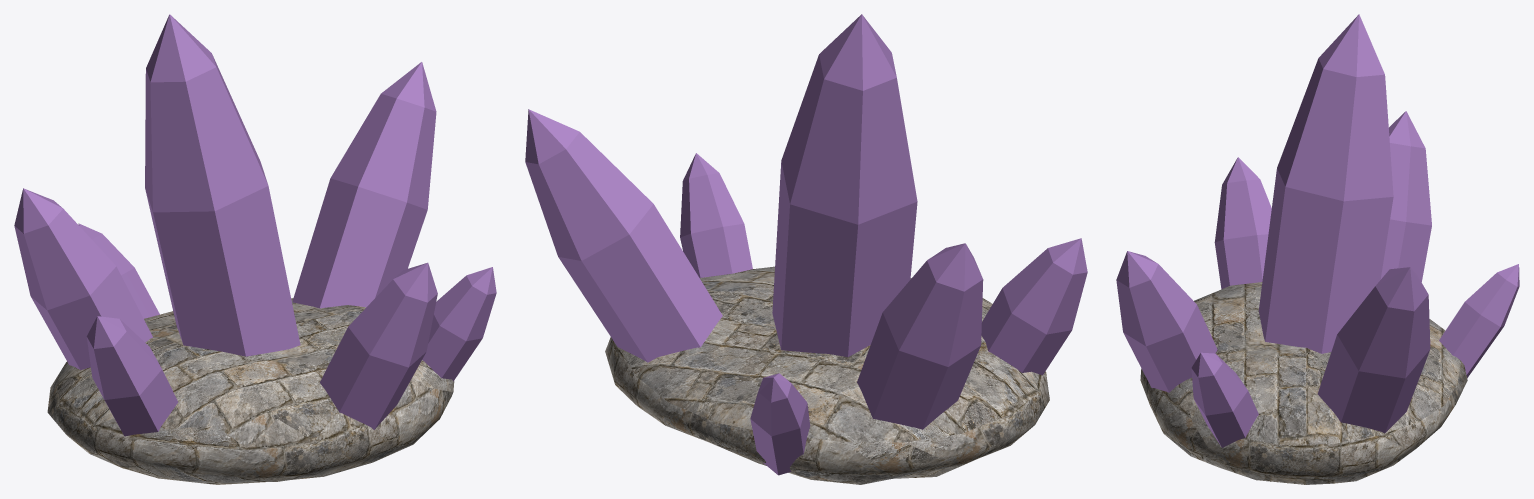
The model's file is large-crystal-formation-v01.glb.
The picture shows the model from 3 angles, left to right: view 1: azimuth 30°, elevation 25°; view 2: azimuth 150°, elevation 25°; view 3: azimuth 270°, elevation 25°; orthographic projection. The views are drawn at different scales.
Visible parts, largest first — view 1: large-crystal-formation; view 2: large-crystal-formation; view 3: large-crystal-formation.
Part boxes in pixels (x1,y1,x2,y2): large-crystal-formation: (14,14,496,484); large-crystal-formation: (525,14,1087,484); large-crystal-formation: (1116,14,1519,484).
Size of the model in its own units: 3.01 by 2.83 by 2.66.
Materials: 2 (1 with a texture image).
